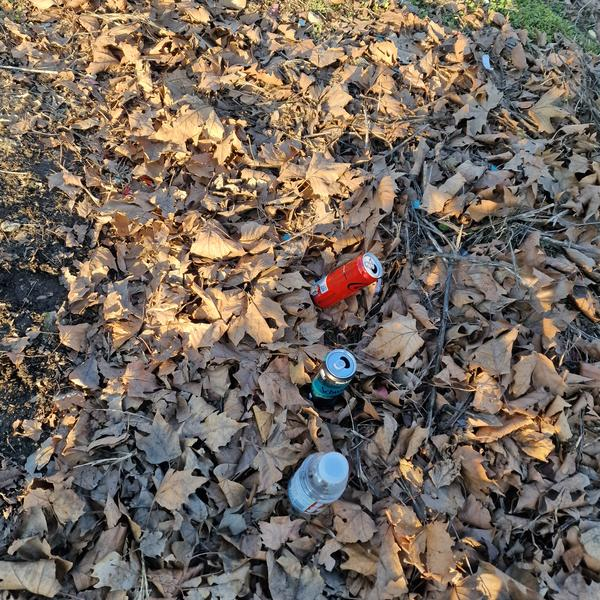can: (303, 246, 388, 315), (298, 342, 364, 415)
plastic_bottle: (286, 449, 350, 511)
